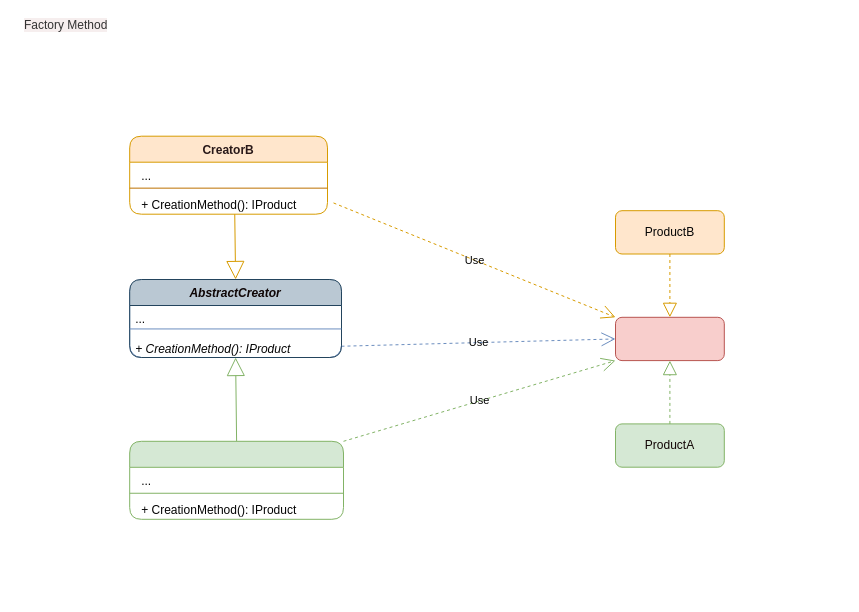
The diagram is 859 pixels wide and 612 high, and some of its shapes have lost their labels. Each missing label, with the centre of its shape:
"CreatorA" goes at (x=236, y=479).
"«interface» IProduct" goes at (x=669, y=338).
